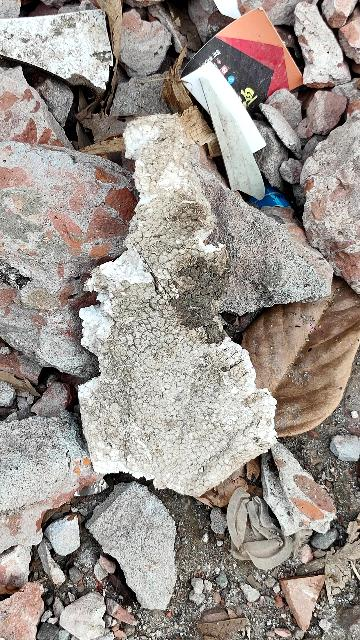cocksheet: (38, 131, 317, 498)
